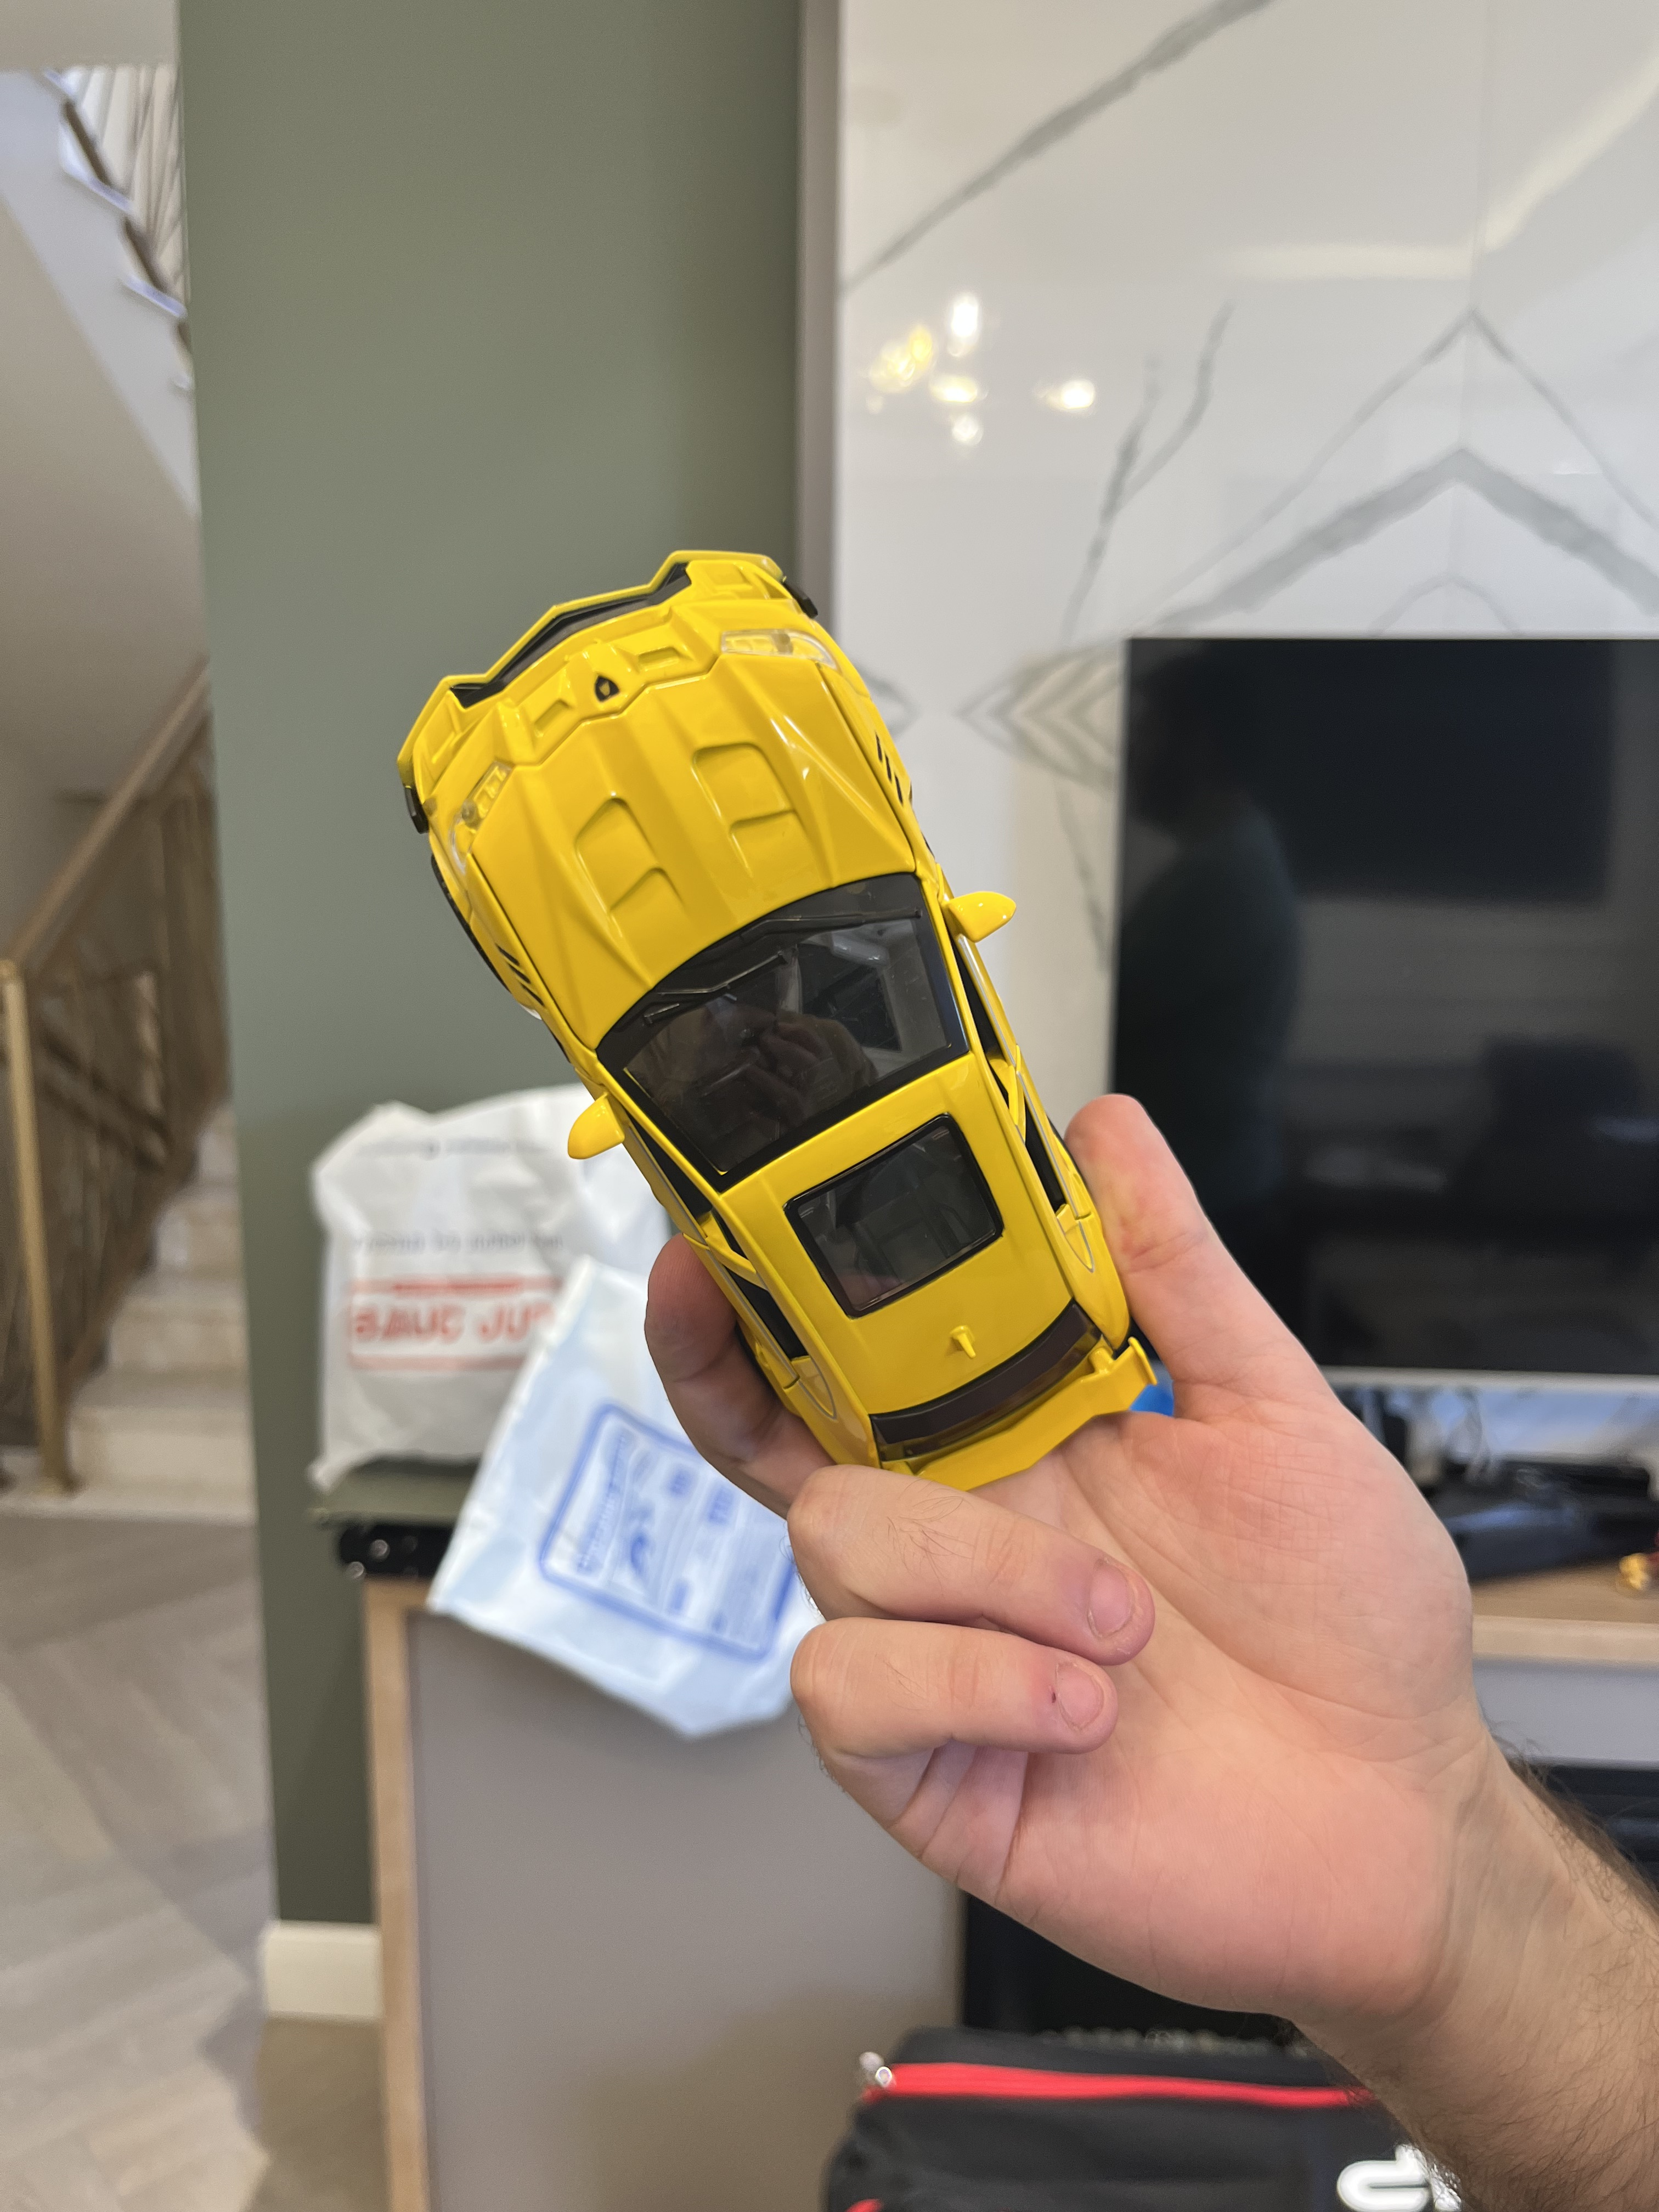lambo: (392, 550, 1164, 1491)
